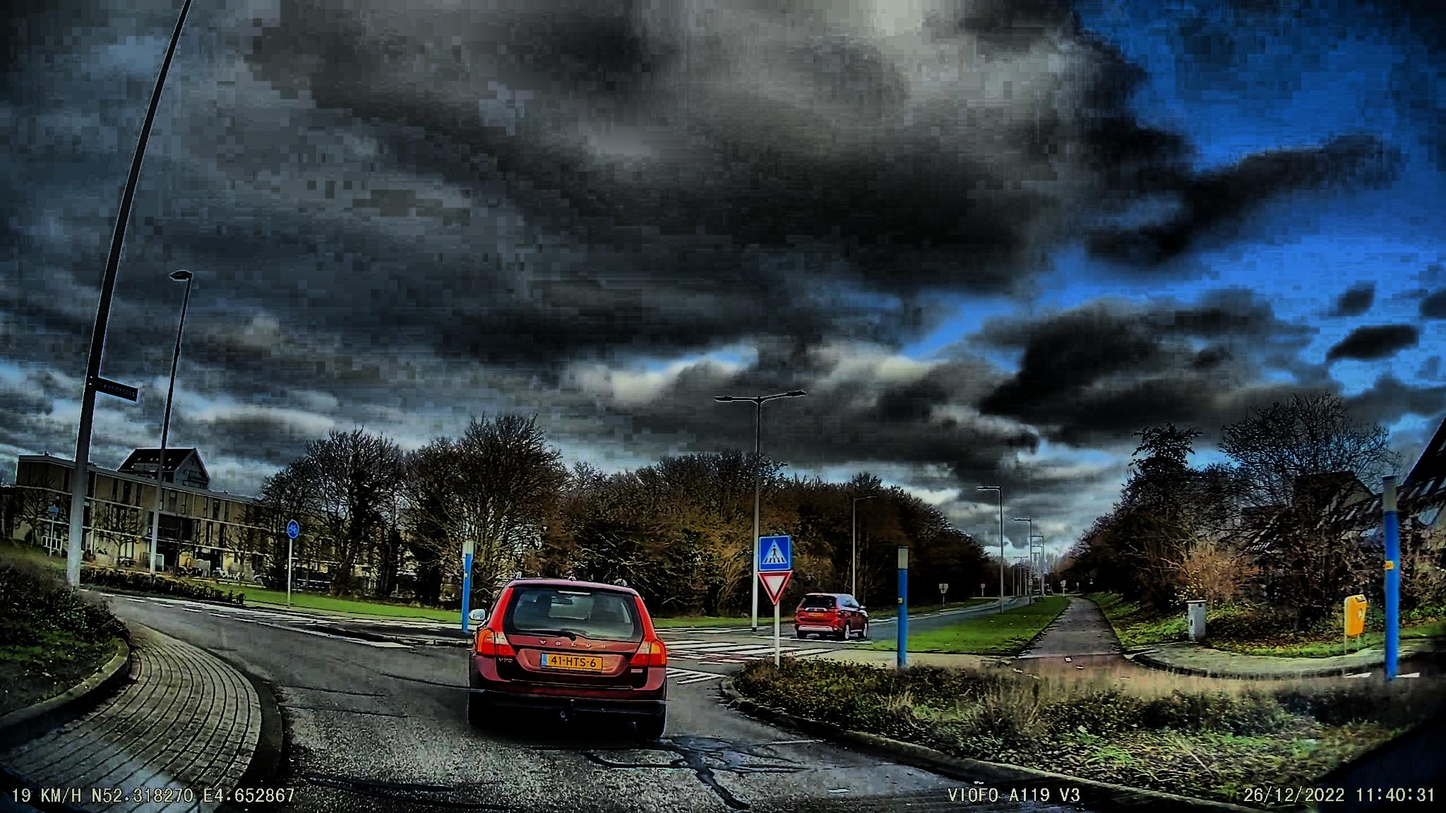Roads: (111, 599, 1096, 813)
